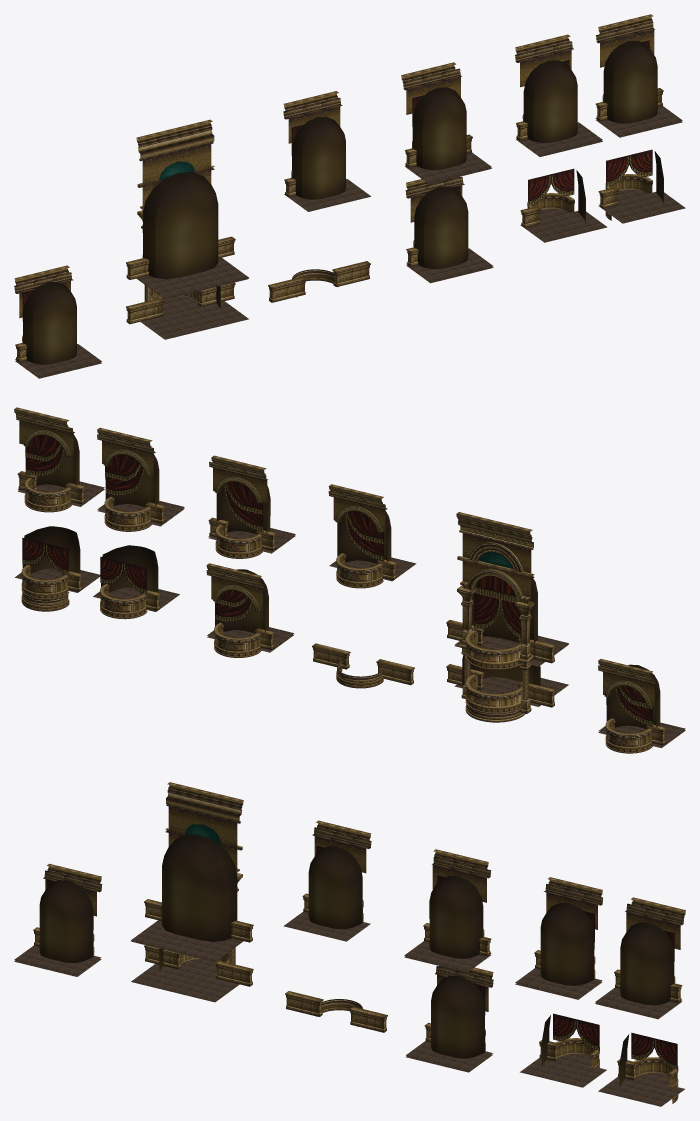
Rendered from EnvMdrMD_Theater_A_Loge_A.FBX.
3 renders of one model, top to bottom at view 1: azimuth 30°, elevation 25°; view 2: azimuth 150°, elevation 25°; view 3: azimuth 330°, elevation 25°, orthographic.
Parts seen in each view (by area): view 1: EnvMdrMD_Theater_A_Loge_A, EnvMdrMD_Theater_A_Loge_B_3F_L_Start, EnvMdrMD_Theater_A_Loge_B_3F_R_Start, EnvMdrMD_Theater_A_Loge_B_3F_R, EnvMdrMD_Theater_A_Loge_B_3F_L, EnvMdrMD_Theater_A_Loge_C_L, EnvMdrMD_Theater_A_Loge_C_R, EnvMdrMD_Theater_A_Loge_B, EnvMdrMD_Theater_A_Loge_B_2F, EnvMdrMD_Theater_A_Loge_C; view 2: EnvMdrMD_Theater_A_Loge_A, EnvMdrMD_Theater_A_Loge_B_3F_R_Start, EnvMdrMD_Theater_A_Loge_B_3F_L_Start, EnvMdrMD_Theater_A_Loge_B_3F_R, EnvMdrMD_Theater_A_Loge_B_3F_L, EnvMdrMD_Theater_A_Loge_C_L, EnvMdrMD_Theater_A_Loge_C_R, EnvMdrMD_Theater_A_Loge_B, EnvMdrMD_Theater_A_Loge_B_2F, EnvMdrMD_Theater_A_Loge_C; view 3: EnvMdrMD_Theater_A_Loge_A, EnvMdrMD_Theater_A_Loge_B_3F_R_Start, EnvMdrMD_Theater_A_Loge_B_3F_L_Start, EnvMdrMD_Theater_A_Loge_B_3F_R, EnvMdrMD_Theater_A_Loge_B_3F_L, EnvMdrMD_Theater_A_Loge_C_L, EnvMdrMD_Theater_A_Loge_C_R, EnvMdrMD_Theater_A_Loge_B, EnvMdrMD_Theater_A_Loge_B_2F, EnvMdrMD_Theater_A_Loge_C.
Part boxes in pixels (<box>): EnvMdrMD_Theater_A_Loge_A: <box>126,119,248,339</box>; EnvMdrMD_Theater_A_Loge_B_3F_L_Start: <box>401,62,491,183</box>; EnvMdrMD_Theater_A_Loge_B_3F_R_Start: <box>595,14,682,137</box>; EnvMdrMD_Theater_A_Loge_B_3F_R: <box>515,34,602,156</box>; EnvMdrMD_Theater_A_Loge_B_3F_L: <box>283,91,370,211</box>; EnvMdrMD_Theater_A_Loge_C_L: <box>14,265,101,378</box>; EnvMdrMD_Theater_A_Loge_C_R: <box>405,176,493,283</box>; EnvMdrMD_Theater_A_Loge_B: <box>598,149,685,223</box>; EnvMdrMD_Theater_A_Loge_B_2F: <box>520,168,607,242</box>; EnvMdrMD_Theater_A_Loge_C: <box>268,261,370,302</box>; EnvMdrMD_Theater_A_Loge_A: <box>446,512,568,722</box>; EnvMdrMD_Theater_A_Loge_B_3F_R_Start: <box>14,407,104,512</box>; EnvMdrMD_Theater_A_Loge_B_3F_L_Start: <box>208,455,295,558</box>; EnvMdrMD_Theater_A_Loge_B_3F_R: <box>97,427,184,531</box>; EnvMdrMD_Theater_A_Loge_B_3F_L: <box>328,484,416,588</box>; EnvMdrMD_Theater_A_Loge_C_L: <box>598,659,685,753</box>; EnvMdrMD_Theater_A_Loge_C_R: <box>206,563,293,657</box>; EnvMdrMD_Theater_A_Loge_B: <box>15,526,100,611</box>; EnvMdrMD_Theater_A_Loge_B_2F: <box>93,545,179,619</box>; EnvMdrMD_Theater_A_Loge_C: <box>312,643,414,688</box>; EnvMdrMD_Theater_A_Loge_A: <box>131,782,253,1002</box>; EnvMdrMD_Theater_A_Loge_B_3F_R_Start: <box>595,897,685,1019</box>; EnvMdrMD_Theater_A_Loge_B_3F_L_Start: <box>404,849,491,972</box>; EnvMdrMD_Theater_A_Loge_B_3F_R: <box>515,877,602,999</box>; EnvMdrMD_Theater_A_Loge_B_3F_L: <box>283,820,371,941</box>; EnvMdrMD_Theater_A_Loge_C_L: <box>14,863,102,976</box>; EnvMdrMD_Theater_A_Loge_C_R: <box>406,966,493,1072</box>; EnvMdrMD_Theater_A_Loge_B: <box>598,1032,684,1106</box>; EnvMdrMD_Theater_A_Loge_B_2F: <box>520,1013,606,1087</box>; EnvMdrMD_Theater_A_Loge_C: <box>285,991,387,1032</box>.
Size of the model in its own units: 6134 by 1740 by 755.
Materials: 7 (7 with a texture image).
